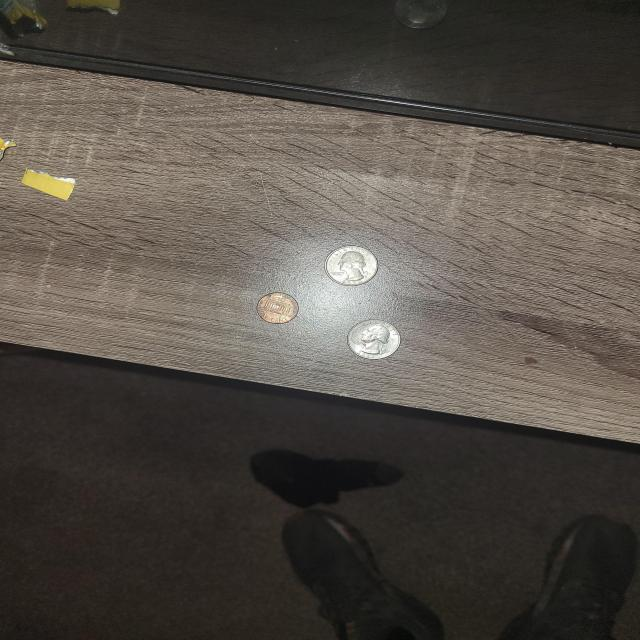Penny: (252, 290, 302, 326)
Quarter: (321, 242, 384, 288), (344, 317, 404, 363)
